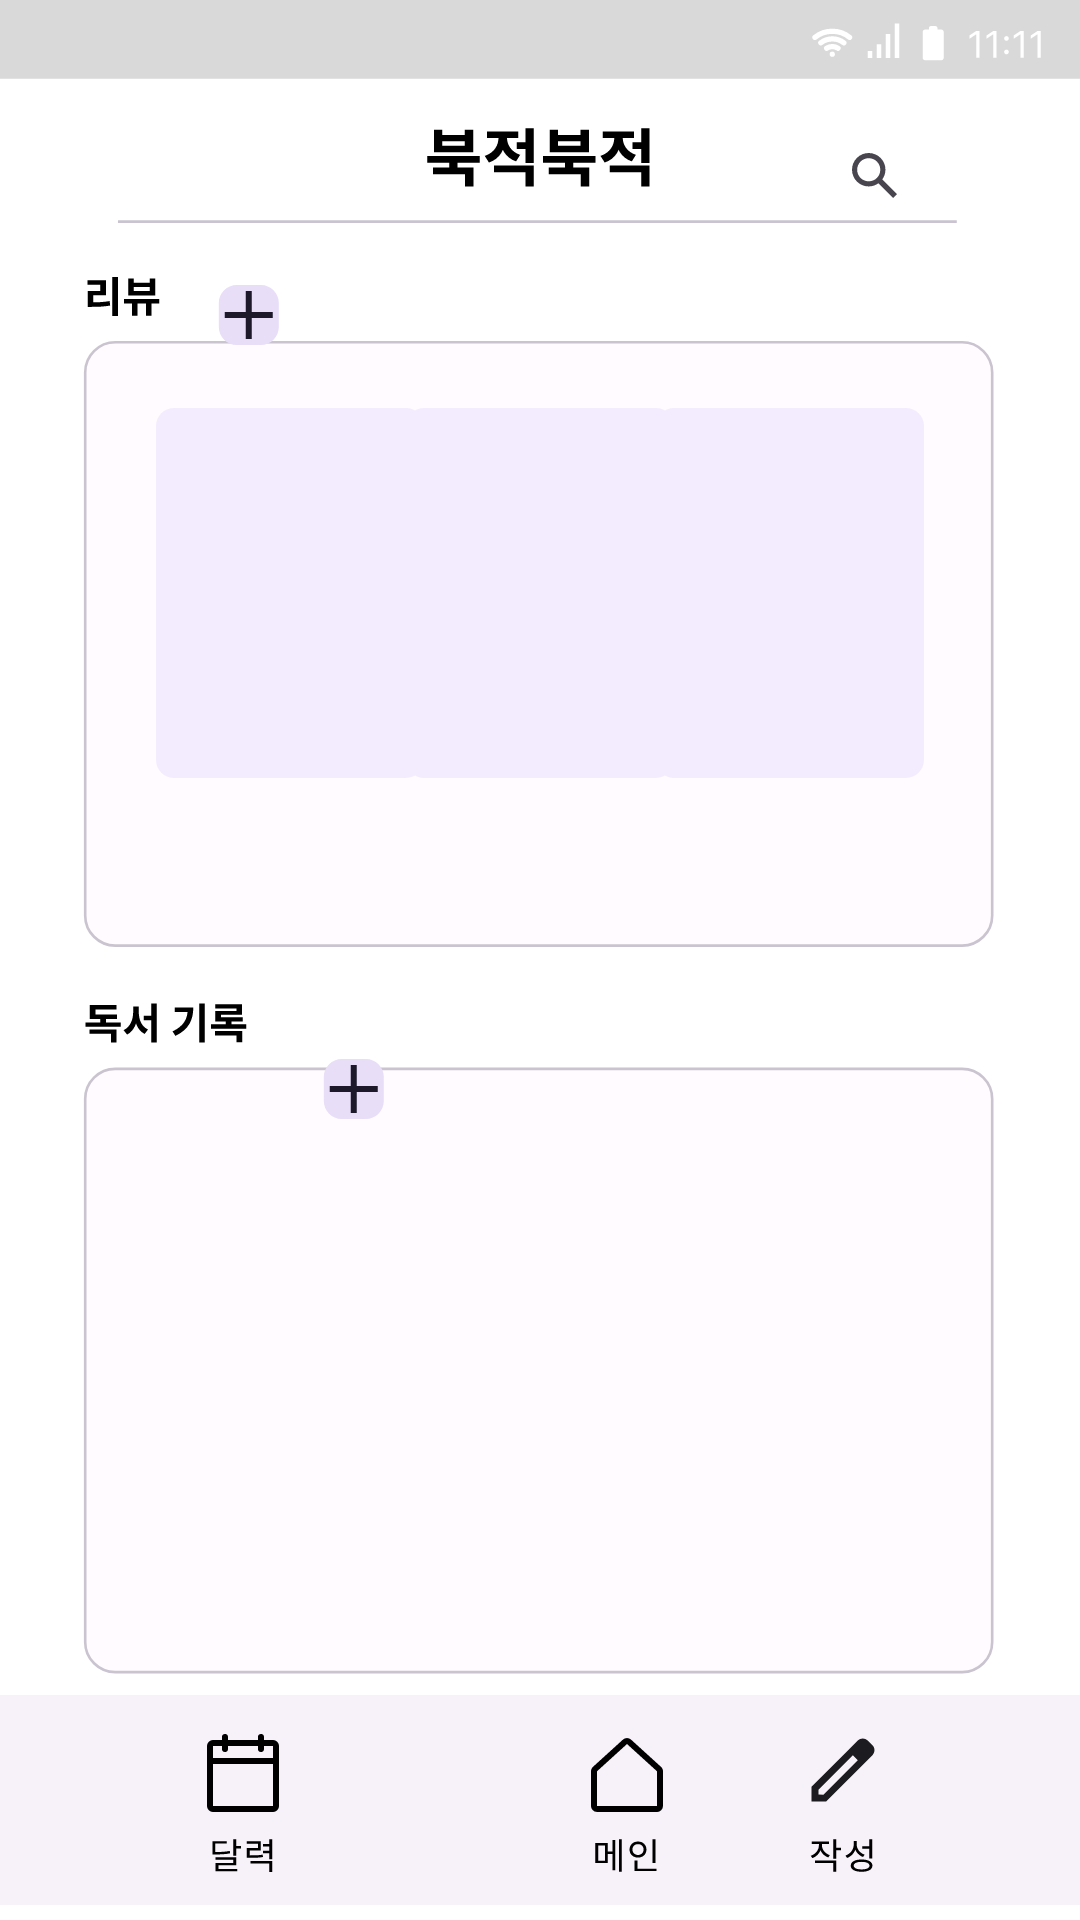

Where to tap for icons on this 1080px×1920px app screen, as point (x, y):
search: point (874, 175)
